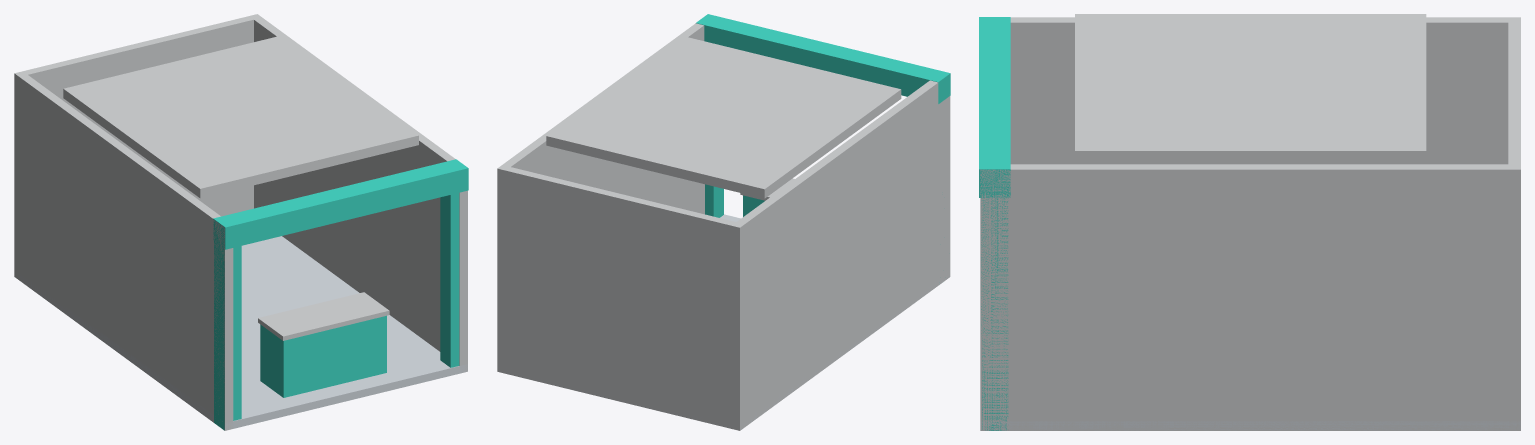
3 renders of one model, left to right at view 1: azimuth 30°, elevation 25°; view 2: azimuth 150°, elevation 25°; view 3: azimuth 270°, elevation 25°, orthographic. The views are drawn at different scales.
Visible parts, largest first — view 1: Exhibition Booth Concept; view 2: Exhibition Booth Concept; view 3: Exhibition Booth Concept.
Part boxes in pixels (x1,y1,x2,y2): Exhibition Booth Concept: (14,14,468,430); Exhibition Booth Concept: (497,14,950,430); Exhibition Booth Concept: (979,14,1520,430).
Bounding box in the file's own units: 4 × 3.34 × 6.02.
